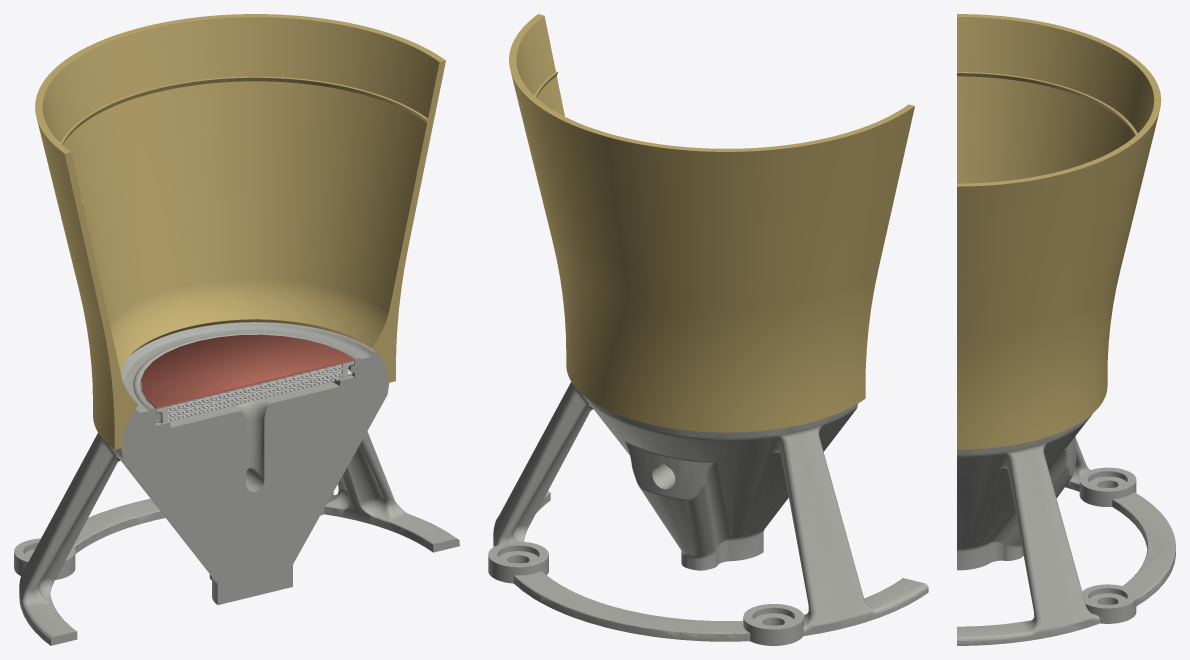
Rendered from membrane-clamp.glb.
3 renders of one model, left to right at view 1: azimuth 30°, elevation 25°; view 2: azimuth 150°, elevation 25°; view 3: azimuth 270°, elevation 25°, orthographic. The views are drawn at different scales.
Visible parts, largest first — view 1: funnel, base, membrane, filter-support; view 2: funnel, base; view 3: funnel, base.
Boxes of the visible parts, <box> form: funnel: <box>35,14,445,449</box>; base: <box>14,322,459,645</box>; membrane: <box>141,334,354,408</box>; filter-support: <box>141,361,354,423</box>; funnel: <box>509,14,914,432</box>; base: <box>488,382,928,645</box>; funnel: <box>957,14,1161,449</box>; base: <box>957,414,1175,645</box>.
Size of the model in its own units: 0.077 by 0.088 by 0.0385.
